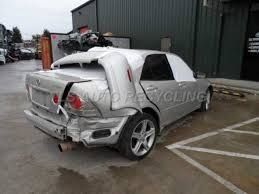Broken-glass: (63, 92, 98, 117)
Smashed: (52, 107, 106, 151)
